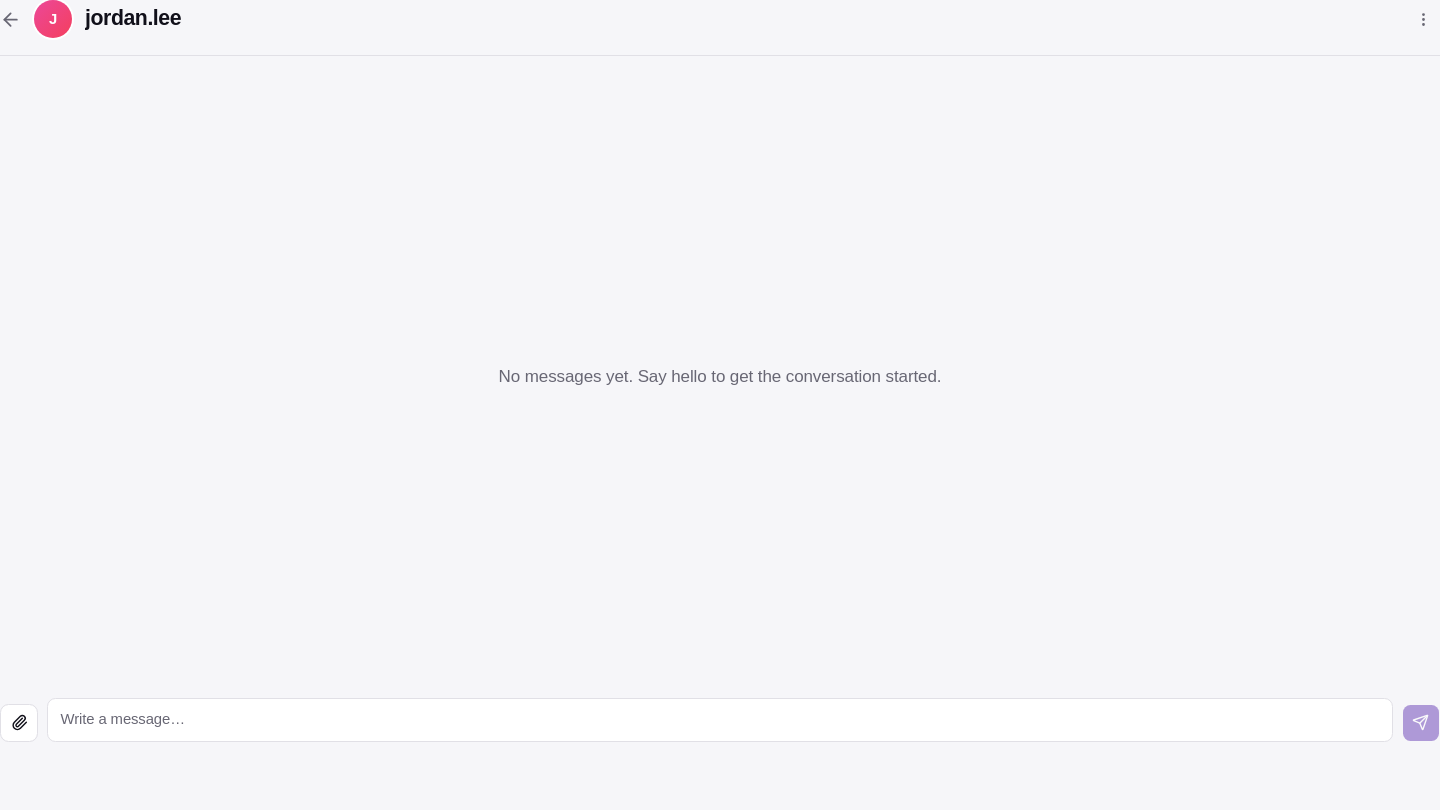
Test: ChatRoomPage › asks for confirmation before leaving, and does nothing on Cancel
The image size is (1440, 810).
Expected: the heading "jordan.lee" is shown, [85,4,181,34]
Step 1. Click the button named "Chat options" → [1423, 19], box [1406,2,1439,36]
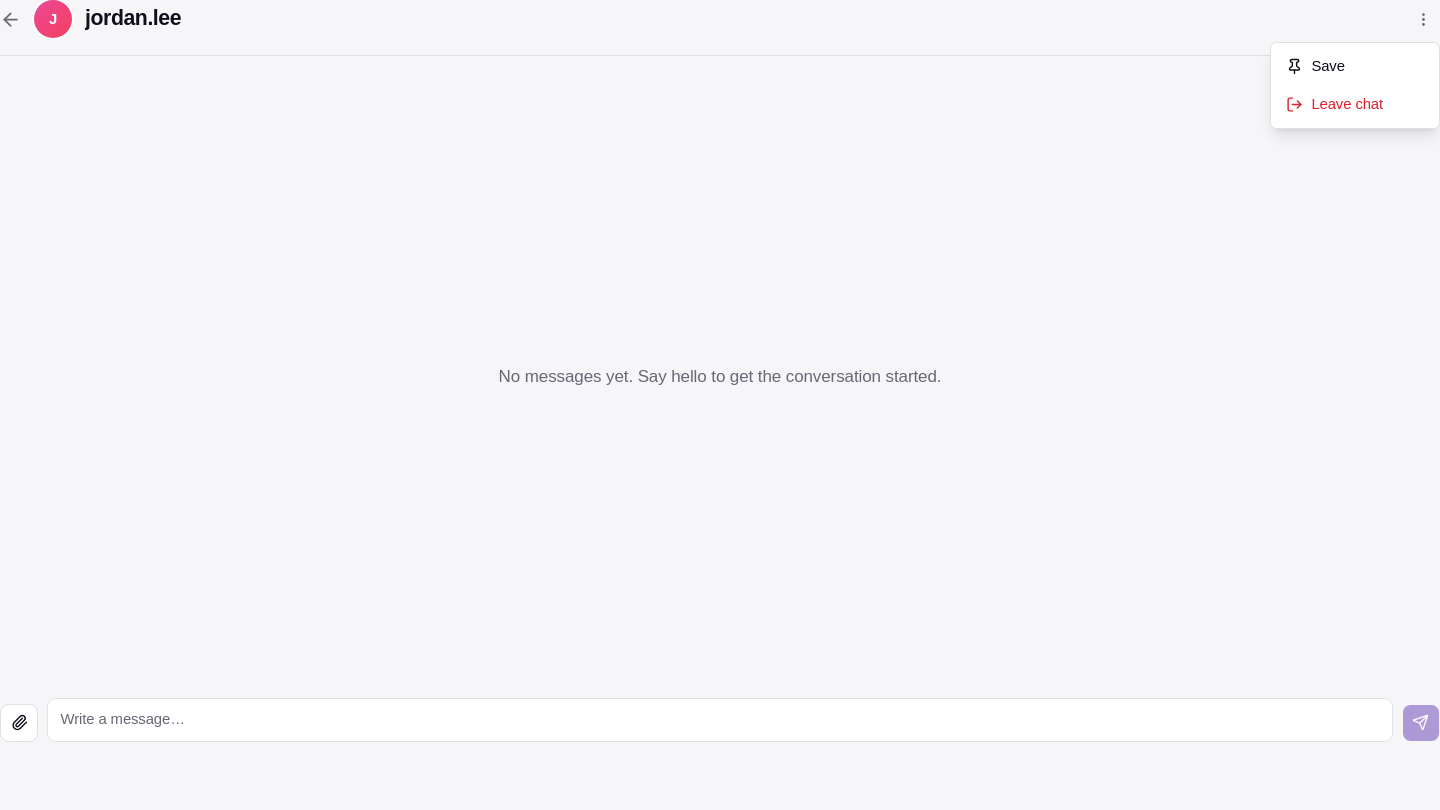
Step 2. Click the menu item "Leave chat" → [1334, 105], box [1286,96,1383,113]
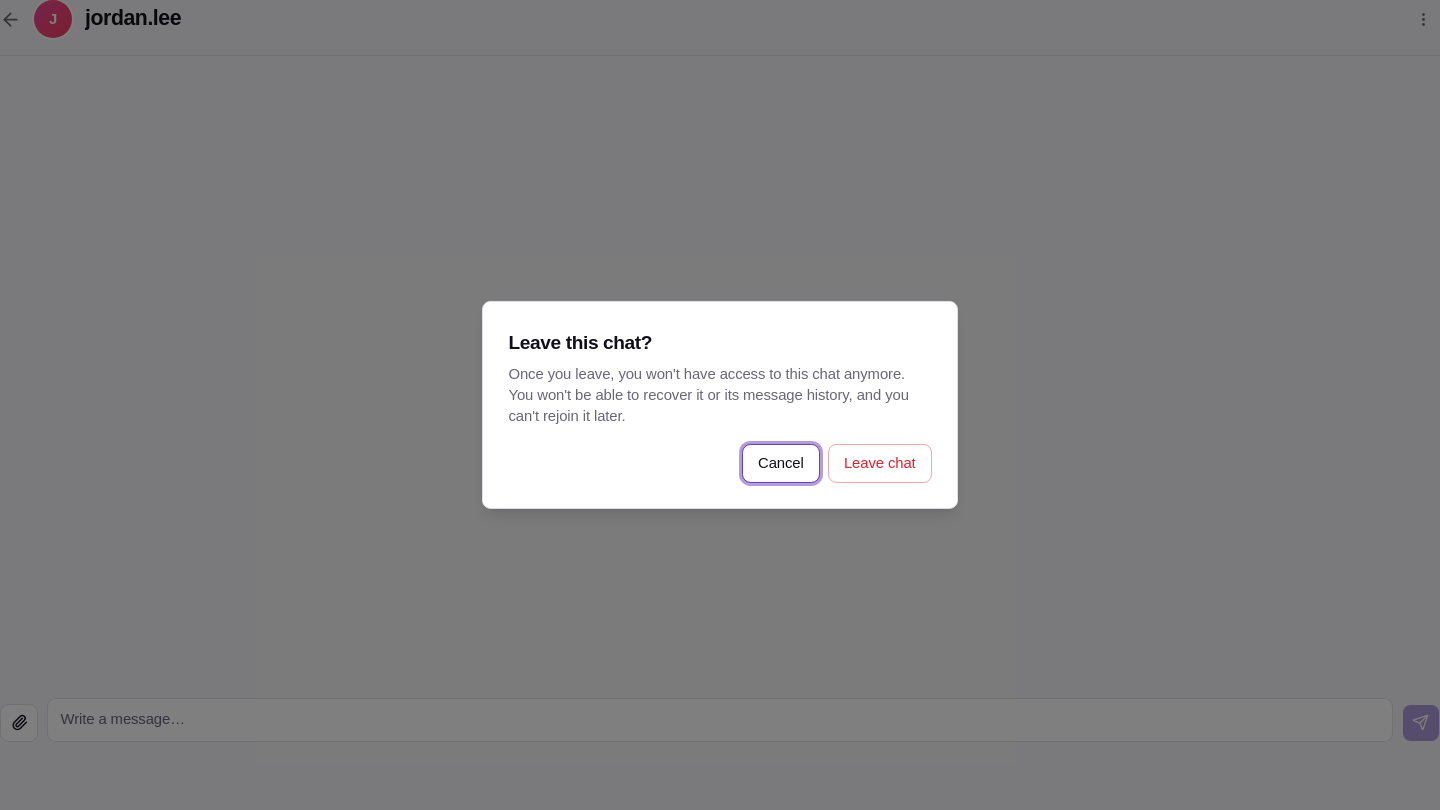
Now the heading "Leave this chat?" is shown, box [508,331,652,352]
Now the text "won't be able to recover it or its message history" is shown, box [508,366,909,424]
Step 3. Click the button "Cancel" → [781, 463], box [742,444,820,483]
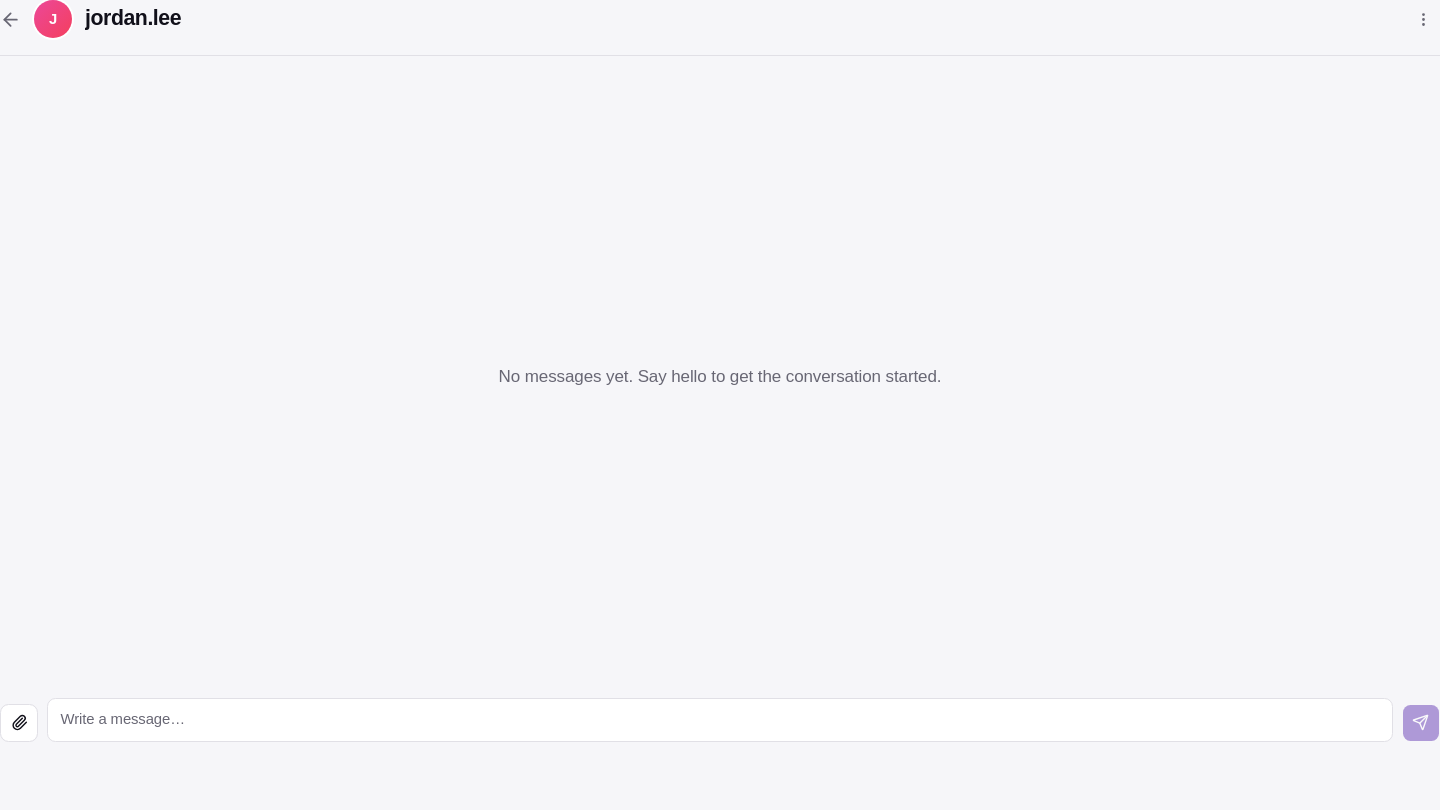
Expected: the heading "jordan.lee" is shown, [85,4,181,34]
Now the heading "Leave this chat?" is gone
